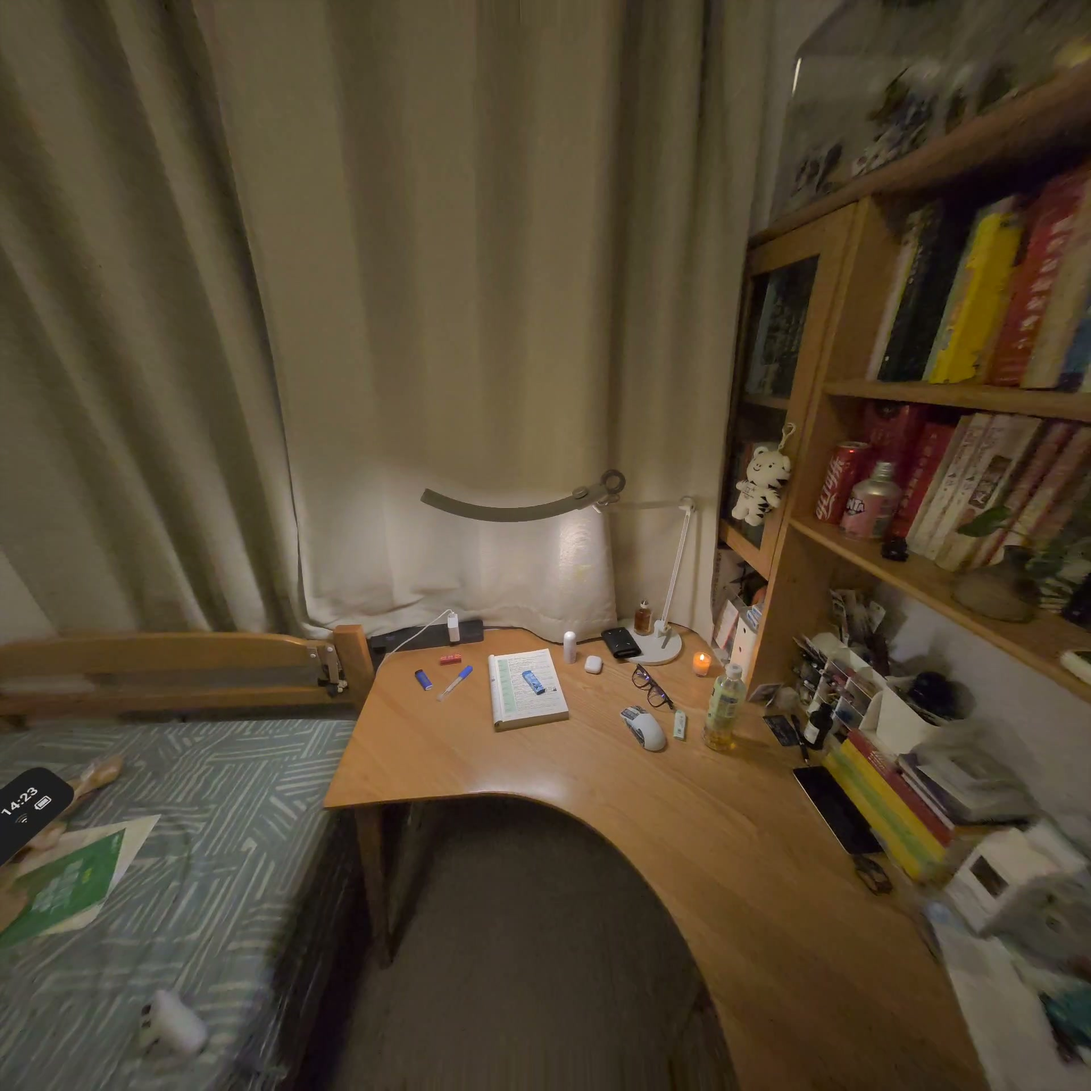lighter: (522, 670, 544, 695)
